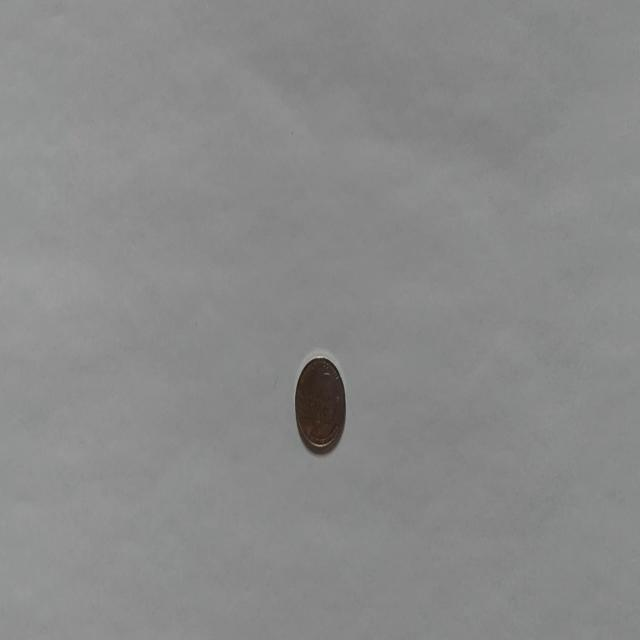seribu rupiah koin: (294, 352, 346, 454)
